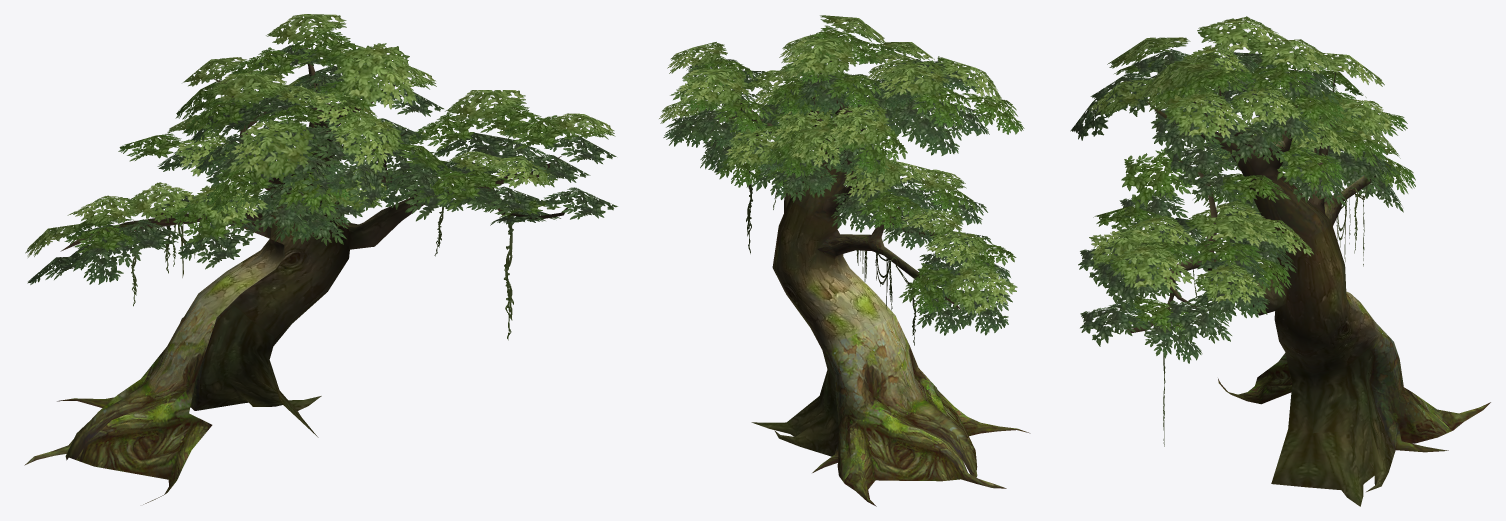
File: S_Tree_Green129_H2.FBX
3 renders of one model, left to right at view 1: azimuth 30°, elevation 25°; view 2: azimuth 150°, elevation 25°; view 3: azimuth 270°, elevation 25°, orthographic. The views are drawn at different scales.
Visible parts, largest first — view 1: S_Tree_Green129_H2; view 2: S_Tree_Green129_H2; view 3: S_Tree_Green129_H2.
Part boxes in pixels (x1,y1,x2,y2): S_Tree_Green129_H2: (24,14,617,504); S_Tree_Green129_H2: (659,15,1030,506); S_Tree_Green129_H2: (1070,16,1490,506).
Size of the model in its own units: 1784 by 1422 by 1248.
Materials: 3 (3 with a texture image).
